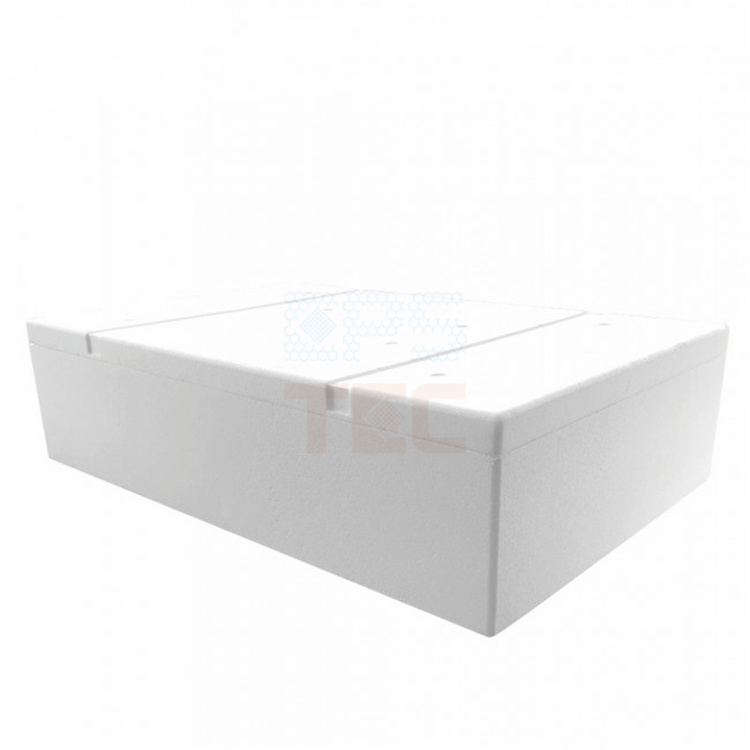Boxes: (25, 277, 723, 635)
